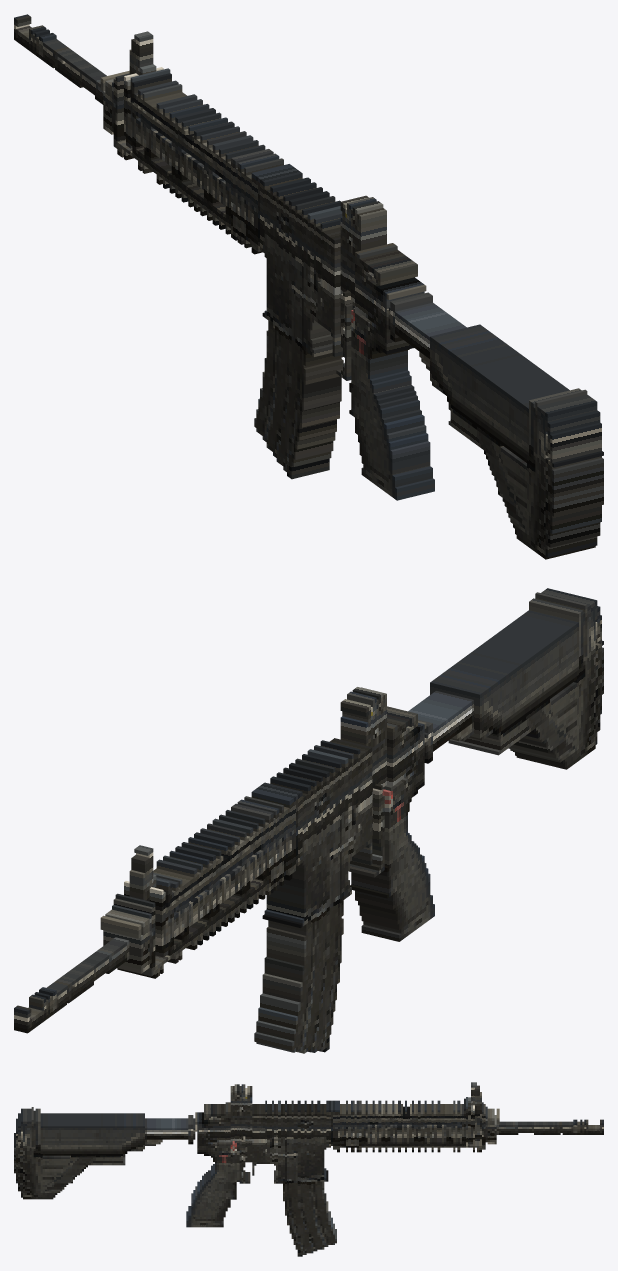
The picture shows the model from 3 angles, top to bottom: view 1: azimuth 30°, elevation 25°; view 2: azimuth 150°, elevation 25°; view 3: azimuth 270°, elevation 25°; orthographic projection. The views are drawn at different scales.
Parts seen in each view (by area): view 1: download (1)_104, download (1)_128, download (1)_152, download (1)_173, download (1)_118, download (1)_74, download (1)_70, download (1)_40, download (1)_34, download (1)_69, download (1)_67, download (1)_38 (+19 smaller); view 2: download (1)_104, download (1)_152, download (1)_118, download (1)_34, download (1)_67, download (1)_182, download (1)_218, download (1)_175, download (1)_74, download (1)_94, download (1)_38, download (1)_69 (+27 smaller); view 3: download (1)_104, download (1)_152, download (1)_118, download (1)_67, download (1)_74, download (1)_182, download (1)_68, download (1)_69, download (1)_34, download (1)_38, download (1)_127, download (1)_70 (+27 smaller).
Boxes of the visible parts, box(x1,y1,x2,y2) form: download (1)_104: box(430, 324, 569, 452); download (1)_128: box(550, 422, 601, 533); download (1)_152: box(355, 312, 407, 443); download (1)_173: box(552, 457, 603, 516); download (1)_118: box(395, 302, 466, 358); download (1)_74: box(322, 227, 340, 334); download (1)_70: box(297, 212, 339, 427); download (1)_40: box(302, 200, 341, 410); download (1)_34: box(251, 164, 302, 249); download (1)_69: box(291, 208, 333, 459); download (1)_67: box(278, 198, 283, 465); download (1)_38: box(289, 191, 329, 479); download (1)_104: box(430, 610, 578, 738); download (1)_152: box(355, 778, 407, 909); download (1)_118: box(408, 691, 473, 751); download (1)_34: box(251, 782, 302, 868); download (1)_67: box(316, 784, 321, 1051); download (1)_182: box(460, 682, 576, 753); download (1)_218: box(266, 926, 306, 1053); download (1)_175: box(266, 862, 307, 925); download (1)_74: box(329, 738, 372, 850); download (1)_94: box(529, 598, 583, 760); download (1)_38: box(289, 763, 329, 1050); download (1)_69: box(329, 775, 333, 1026); download (1)_104: box(40, 1113, 144, 1149); download (1)_152: box(215, 1142, 230, 1207); download (1)_118: box(145, 1118, 188, 1139); download (1)_67: box(306, 1104, 311, 1253); download (1)_74: box(252, 1104, 265, 1163); download (1)_182: box(42, 1155, 123, 1165); download (1)_68: box(300, 1104, 304, 1254); download (1)_69: box(293, 1104, 297, 1244); download (1)_34: box(326, 1100, 339, 1145); download (1)_38: box(297, 1100, 300, 1256); download (1)_127: box(23, 1131, 31, 1199); download (1)_70: box(287, 1104, 291, 1225).
Size of the model in its own units: 0.0517 by 0.3139 by 1.
1 material, 1 textured.
